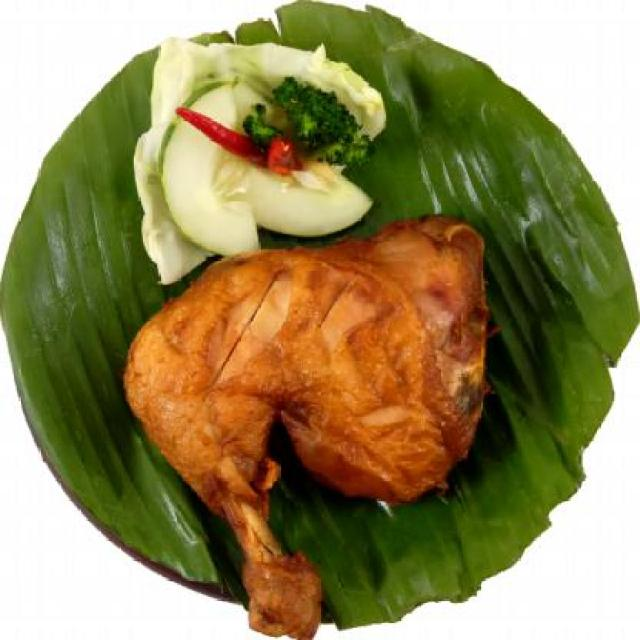Frango: (109, 233, 571, 579)
